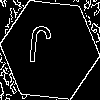J: (25, 25, 53, 73)
